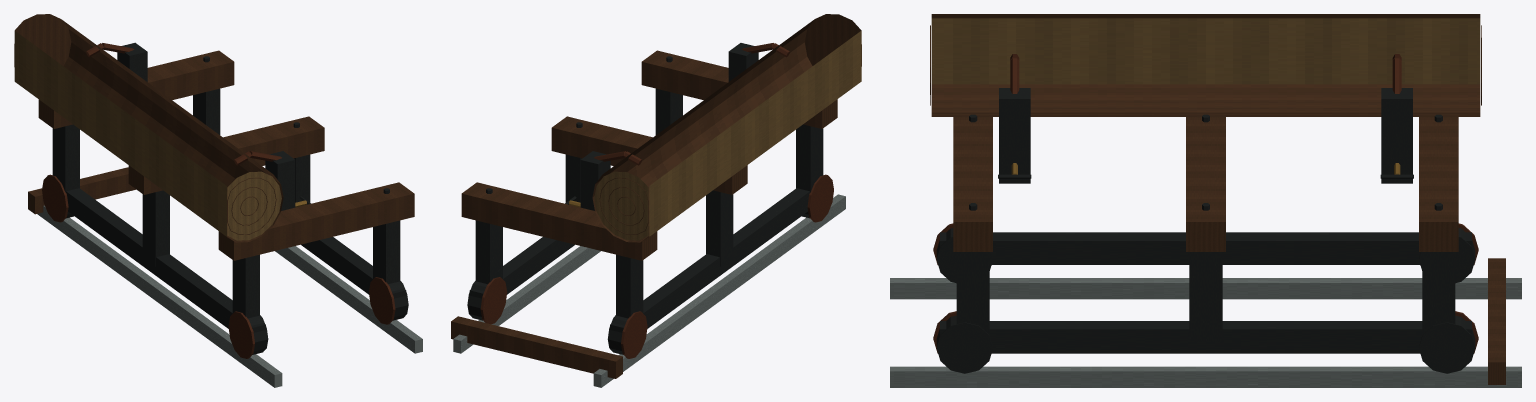
File: level_work_log_carriage.glb
3 views of the same model, side by side, from view 1: azimuth 30°, elevation 25°; view 2: azimuth 150°, elevation 25°; view 3: azimuth 270°, elevation 25° (orthographic). The views are drawn at different scales.
Visible parts, largest first — view 1: level_work_log_carriage; view 2: level_work_log_carriage; view 3: level_work_log_carriage.
Boxes of the visible parts, left/top/right/bottom form: level_work_log_carriage: left=14, top=14, right=422, bottom=387; level_work_log_carriage: left=451, top=14, right=861, bottom=387; level_work_log_carriage: left=890, top=14, right=1521, bottom=387.
Size of the model in its own units: 1.76 by 1.79 by 3.8.
Materials: 6 (6 with a texture image).
